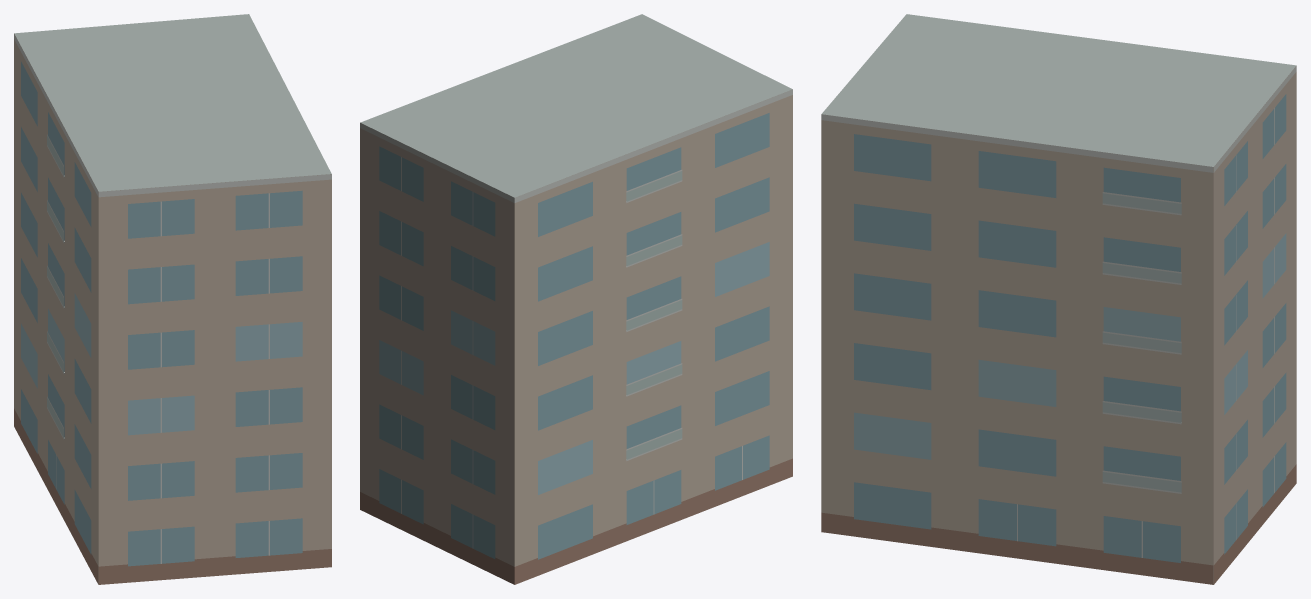
The model's file is survey-upis-32877461.glb.
3 views of the same model, side by side, from view 1: azimuth 30°, elevation 25°; view 2: azimuth 150°, elevation 25°; view 3: azimuth 270°, elevation 25° (orthographic). The views are drawn at different scales.
Visible parts, largest first — view 1: survey-upis-32877461.tmp; view 2: survey-upis-32877461.tmp; view 3: survey-upis-32877461.tmp.
Part boxes in pixels (left/top/right/bottom): survey-upis-32877461.tmp: left=14, top=14, right=331, bottom=584; survey-upis-32877461.tmp: left=360, top=14, right=792, bottom=584; survey-upis-32877461.tmp: left=821, top=14, right=1296, bottom=584.
Size of the model in its own units: 13.52 by 17.2 by 17.74.
